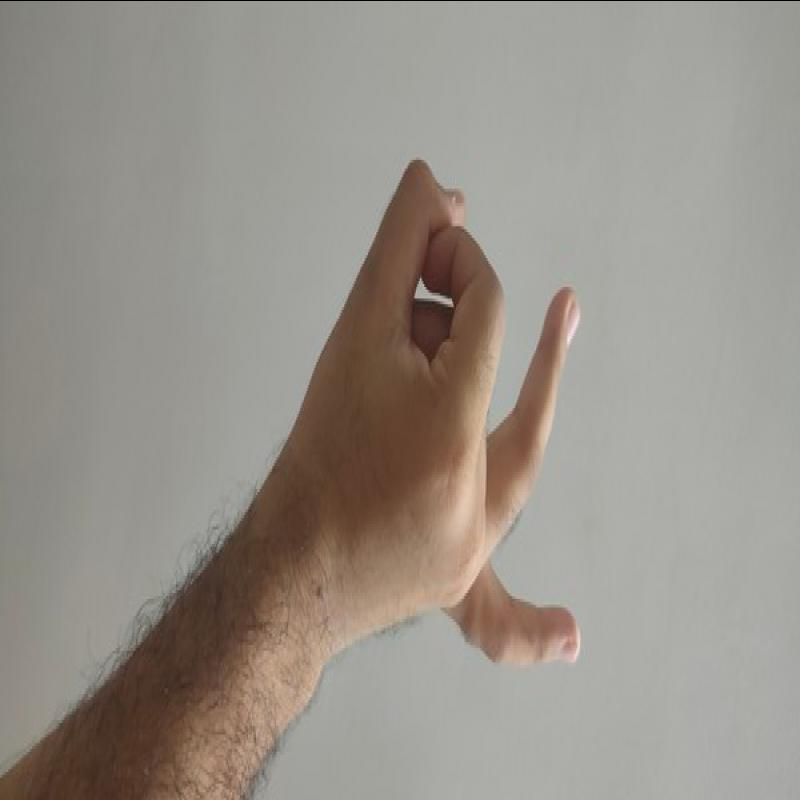Katakam: (304, 138, 694, 708)
